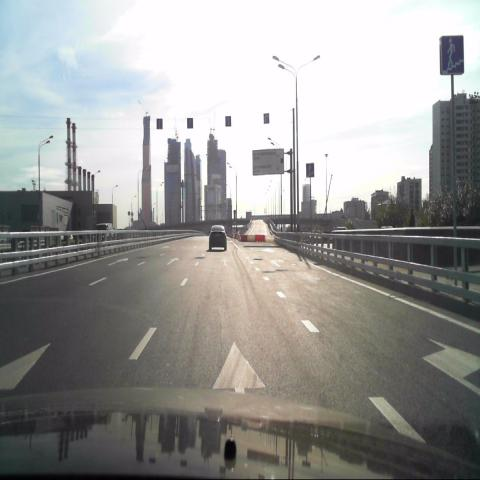6_6: (440, 34, 464, 75)
